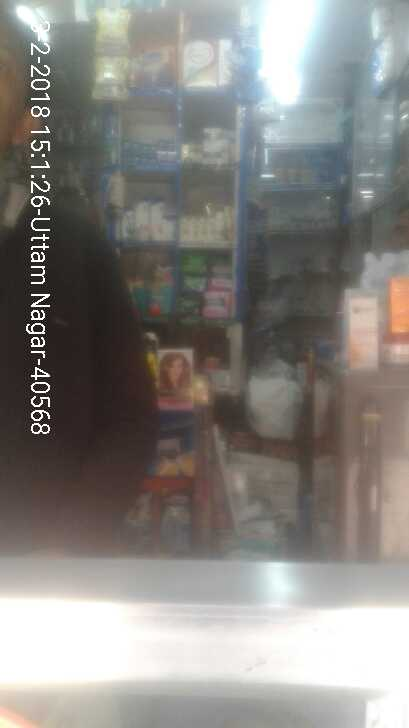vicks: (122, 136, 180, 168)
